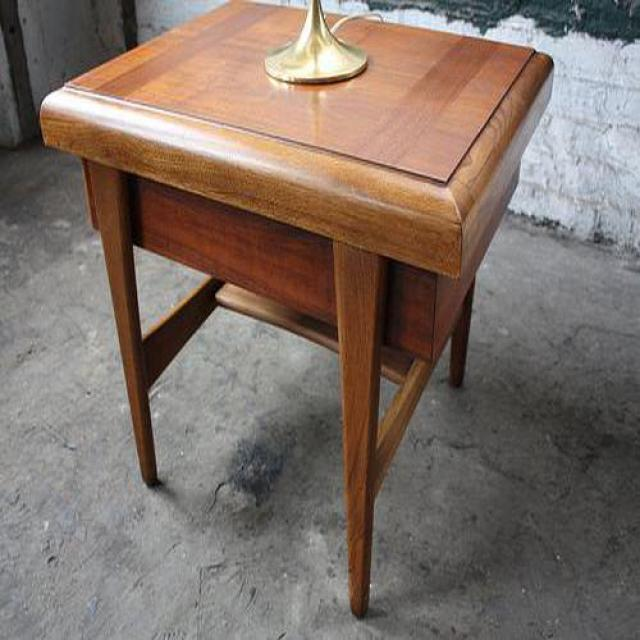table: (40, 0, 556, 620)
